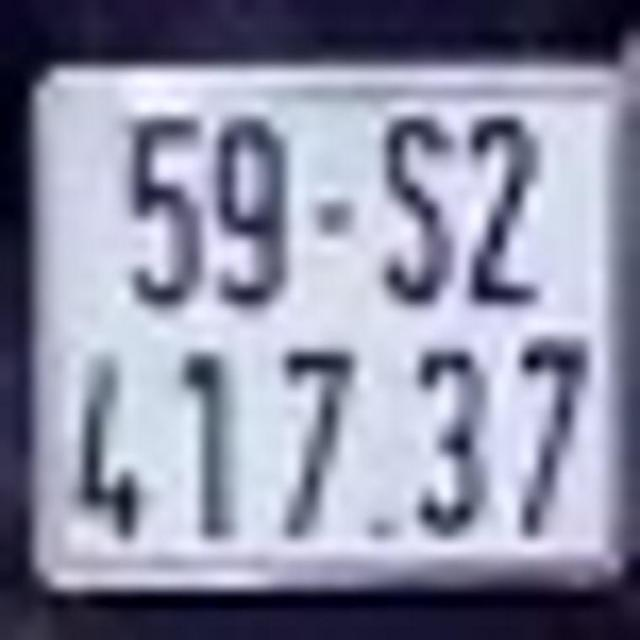1: (178, 348, 241, 535)
2: (465, 106, 545, 313)
3: (404, 335, 488, 540)
4: (78, 351, 152, 547)
5: (129, 105, 203, 314)
7: (261, 342, 363, 542), (508, 326, 594, 550)
9: (210, 105, 289, 306)
S: (382, 93, 453, 298)
